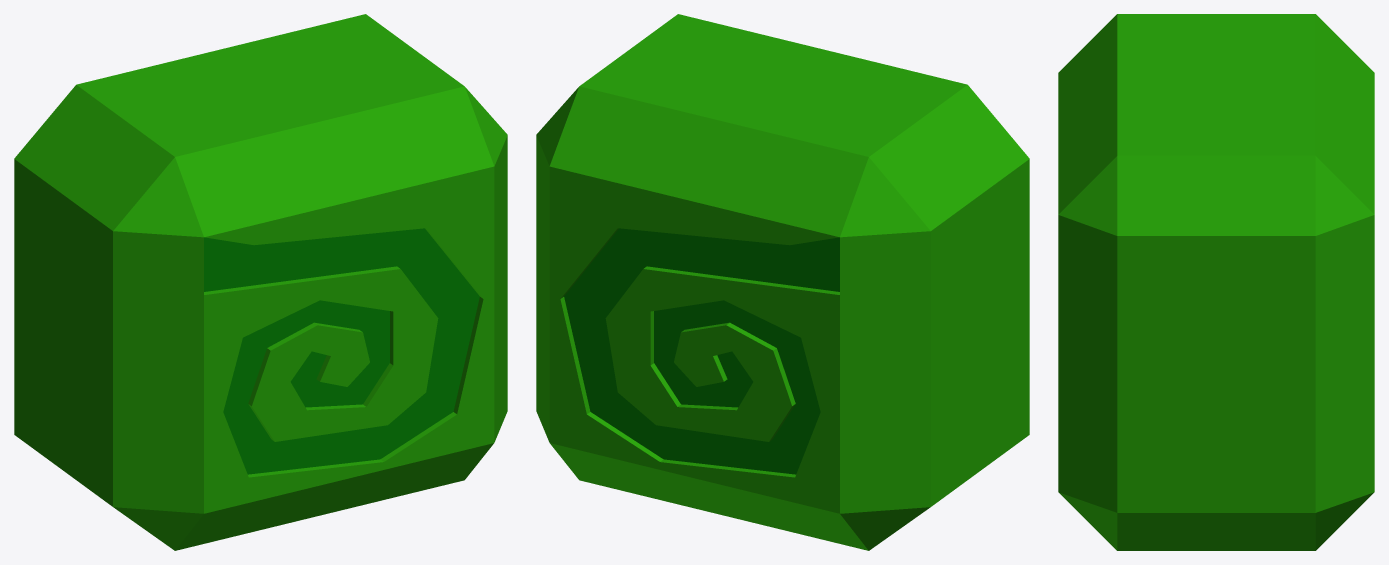
Rendered from Vegetation_Verdant_Grass_Topiary_Bush_Shrub_Cube_01.FBX.
3 views of the same model, side by side, from view 1: azimuth 30°, elevation 25°; view 2: azimuth 150°, elevation 25°; view 3: azimuth 270°, elevation 25° (orthographic).
Parts seen in each view (by area): view 1: Vegetation_Verdant_Grass_Topiary_Bush_Shrub_Cube_01; view 2: Vegetation_Verdant_Grass_Topiary_Bush_Shrub_Cube_01; view 3: Vegetation_Verdant_Grass_Topiary_Bush_Shrub_Cube_01.
Part boxes in pixels (bbox=[...]): Vegetation_Verdant_Grass_Topiary_Bush_Shrub_Cube_01: bbox=[14, 14, 507, 550]; Vegetation_Verdant_Grass_Topiary_Bush_Shrub_Cube_01: bbox=[536, 14, 1029, 550]; Vegetation_Verdant_Grass_Topiary_Bush_Shrub_Cube_01: bbox=[1058, 14, 1374, 550].
Bounding box in the file's own units: 1182 × 1127 × 817.
